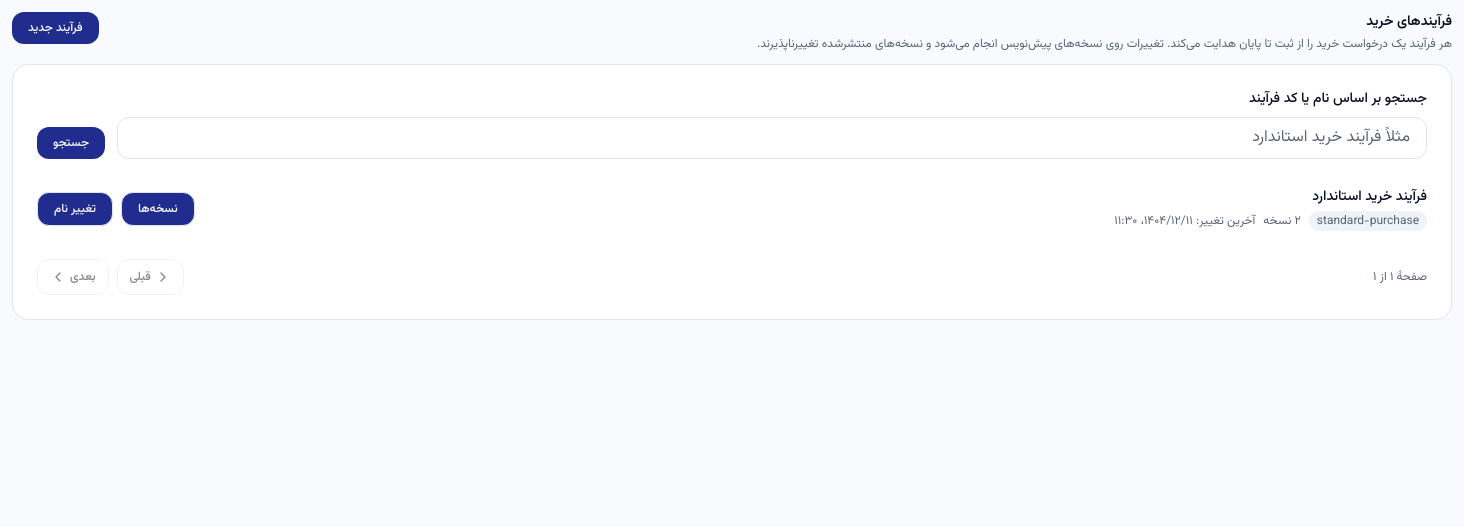
Test: CommerceWorkflowSettings — version history › marks a published version as immutable in the row wording
This screenshot has width=1464, height=527.
Click the button with test id "commerce-workflow-versions-standard-purchase".
click(158, 209)  # box x1=121 y1=192 x2=195 y2=226
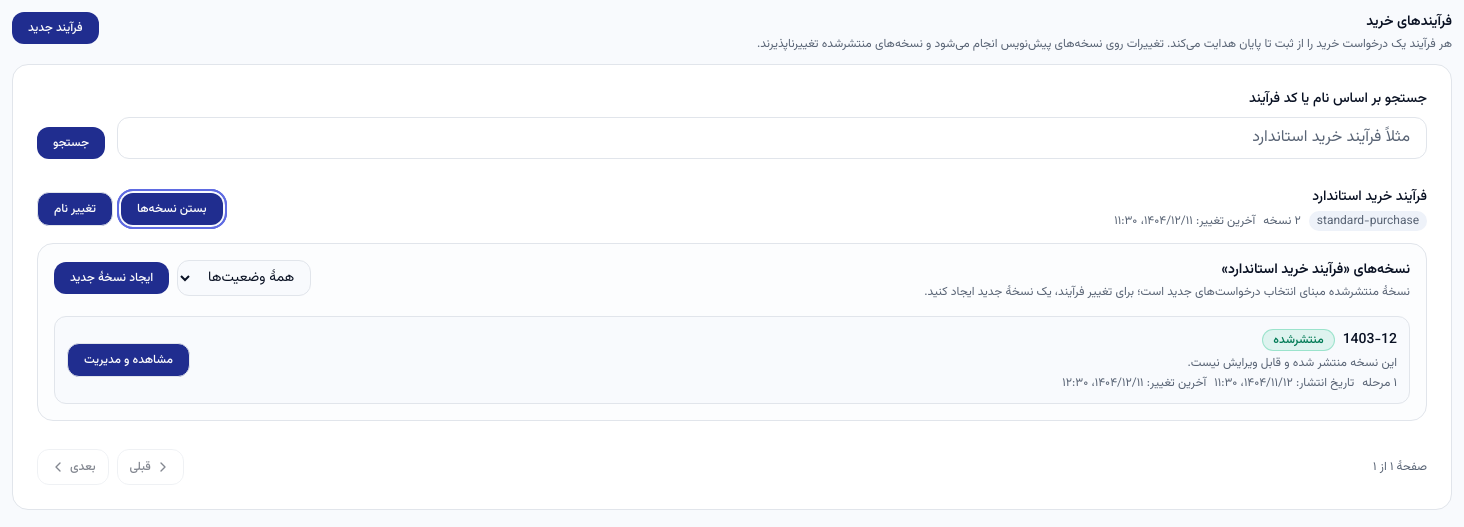
Result: the text with test id "commerce-workflow-version-status-PUBLISHED" reads "منتشرشده" at x1=1273 y1=331 x2=1324 y2=349
Result: the text "این نسخه منتشر شده و قابل ویرایش نیست." is shown at x1=1187 y1=354 x2=1397 y2=372
Result: the button with test id "commerce-workflow-version-open-1403-12" reads "مشاهده و مدیریت" at x1=67 y1=343 x2=190 y2=377
